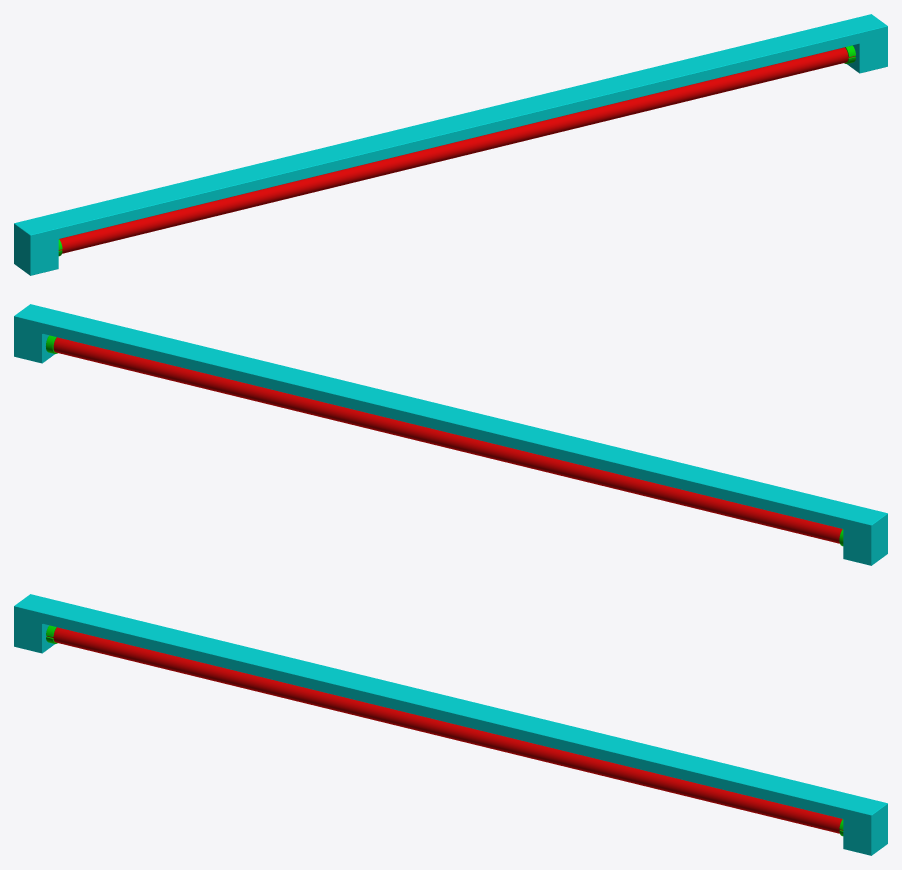
The model's file is LightFitting.fbx.
The picture shows the model from 3 angles, top to bottom: view 1: azimuth 30°, elevation 25°; view 2: azimuth 150°, elevation 25°; view 3: azimuth 330°, elevation 25°; orthographic projection.
Visible parts, largest first — view 1: LightFitting; view 2: LightFitting; view 3: LightFitting.
Part boxes in pixels (x1,y1,x2,y2): LightFitting: (14, 14, 887, 275); LightFitting: (14, 304, 887, 565); LightFitting: (14, 594, 887, 855).
Size of the model in its own units: 120 by 5.48 by 4.01.
